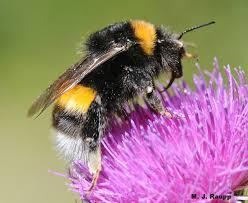Xylocopa: (25, 15, 196, 167)
